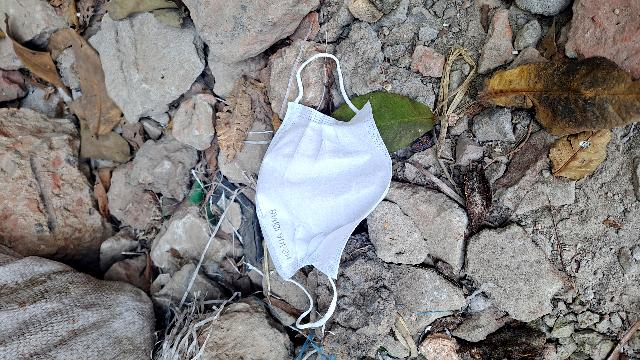mask: (259, 92, 382, 283)
